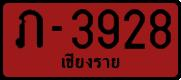letters: (14, 9, 45, 49), (123, 8, 147, 52), (70, 8, 94, 50), (148, 8, 172, 50), (96, 9, 120, 50)
province: (58, 52, 121, 70)
